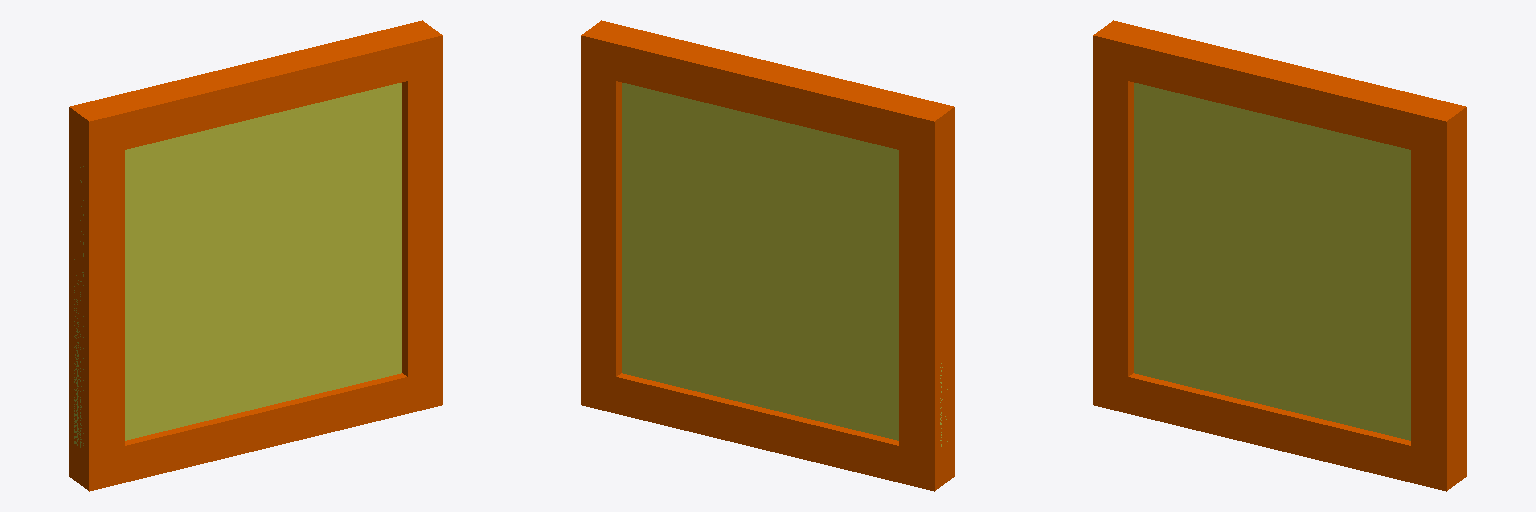
The robot description file, URDF, robot "urdf_door":
<?xml version="0.0" ?>
<robot name="urdf_door">
 <link name="world"/>
  <joint name="fixed" type="fixed">
    <parent link="world"/>
    <child link="baseLink"/>
    <origin xyz="0 0 0"/>
  </joint>

  <link name="baseLink">
    <inertial>
      <origin rpy="0 0 0" xyz="0 0 0.35"/>
       <mass value="1.0"/>
       <inertia ixx="0.1" ixy="0" ixz="0" iyy="0.1" iyz="0" izz="0.1"/>
    </inertial>
    <visual>
      <origin rpy="0 0 0" xyz="0.05 0 0.5"/>
      <geometry>
      <box size="0.1 0.1 1"/>
      </geometry>
	   <material name="framemat0">
      <color
                    rgba="0.9 0.4 0. 1" />
      </material>
    </visual>
    <visual>
      <origin rpy="0 0 0" xyz="0.95 0 0.5"/>
      <geometry>
        <box size="0.1 0.1 1"/>
      </geometry>
	  <material name="framemat0"/>
    </visual>
    <visual>
      <origin rpy="0 0 0" xyz="0.5 0 0.95"/>
      <geometry>
        <box size="1 0.1 0.1"/>
      </geometry>
	  <material name="framemat0"/>
	  </visual>
    <visual>
      <origin rpy="0 0 0" xyz="0.5 0 0.05"/>
      <geometry>
        <box size="1 0.1 0.1"/>
      </geometry>
	  <material name="framemat0"/>
	  </visual>
    <collision>
      <origin rpy="0 0 0" xyz="0.05 0 0.5"/>
      <geometry>
        <box size="0.1 0.1 1"/>
      </geometry>
    </collision>
    <collision>
      <origin rpy="0 0 0" xyz="0.95 0 0.5"/>
      <geometry>
        <box size="0.1 0.1 1"/>
      </geometry>
    </collision>
    <collision>
      <origin rpy="0 0 0" xyz="0.5 0 0.95"/>
      <geometry>
        <box size="1 0.1 0.1"/>
      </geometry>
    </collision>
    <collision>
      <origin rpy="0 0 0" xyz="0.5 0 0.05"/>
      <geometry>
        <box size="1 0.1 0.1"/>
      </geometry>
    </collision>

  </link>
   <link name="childA">
    <inertial>
      <origin rpy="0 0 0" xyz="0.4 0 0.4"/>
      <mass value="1.0"/>
      <inertia ixx="0.048966669" ixy="0" ixz="0" iyy="0.046466667" iyz="0" izz="0.0041666669"/>
    </inertial>
    <visual>
      <origin rpy="0 0 0" xyz="0.4 0 0.4"/>
      <geometry>
        <box size="0.9  0.05 0.8"/>
      </geometry>
	   <material name="doormat0">
      <color rgba="0.8 0.8 0.3 1" />
      </material>

	  </visual>
     <collision>
       <origin rpy="0 0 0" xyz="0.4 0 0.4"/>
       <geometry>
         <box size="0.9  0.05 0.8"/>
       </geometry>
     </collision>

   </link>
   <joint name="joint_baseLink_childA" type="continuous">
    <parent link="baseLink"/>
    <child link="childA"/>
	<dynamics damping="1.0" friction="0.0001"/>
    <origin xyz="0.05 0 0.1"/>
		<axis xyz="0 0 1"/>
  </joint>
</robot>

--- Facts derived from the render (not from the file) ---
Views: 3 orthographic renders of the robot side by side, from view 1: azimuth 30°, elevation 25°; view 2: azimuth 150°, elevation 25°; view 3: azimuth 330°, elevation 25°.
Model urdf_door with 3 links and 2 joints (1 continuous, 1 fixed), rooted at world, posed all joints at 0.
Visible links, largest first — view 1: childA, baseLink; view 2: childA, baseLink; view 3: childA, baseLink.
Boxes of the visible links, <box> form: childA: <box>74,83,401,447</box>; baseLink: <box>69,20,442,491</box>; childA: <box>622,83,947,446</box>; baseLink: <box>581,20,954,491</box>; childA: <box>1134,83,1410,440</box>; baseLink: <box>1093,20,1466,491</box>.
Size in the robot's own frame: 1 by 0.1 by 1 metres.
Geometry: primitives only (box / cylinder / sphere), no mesh files.